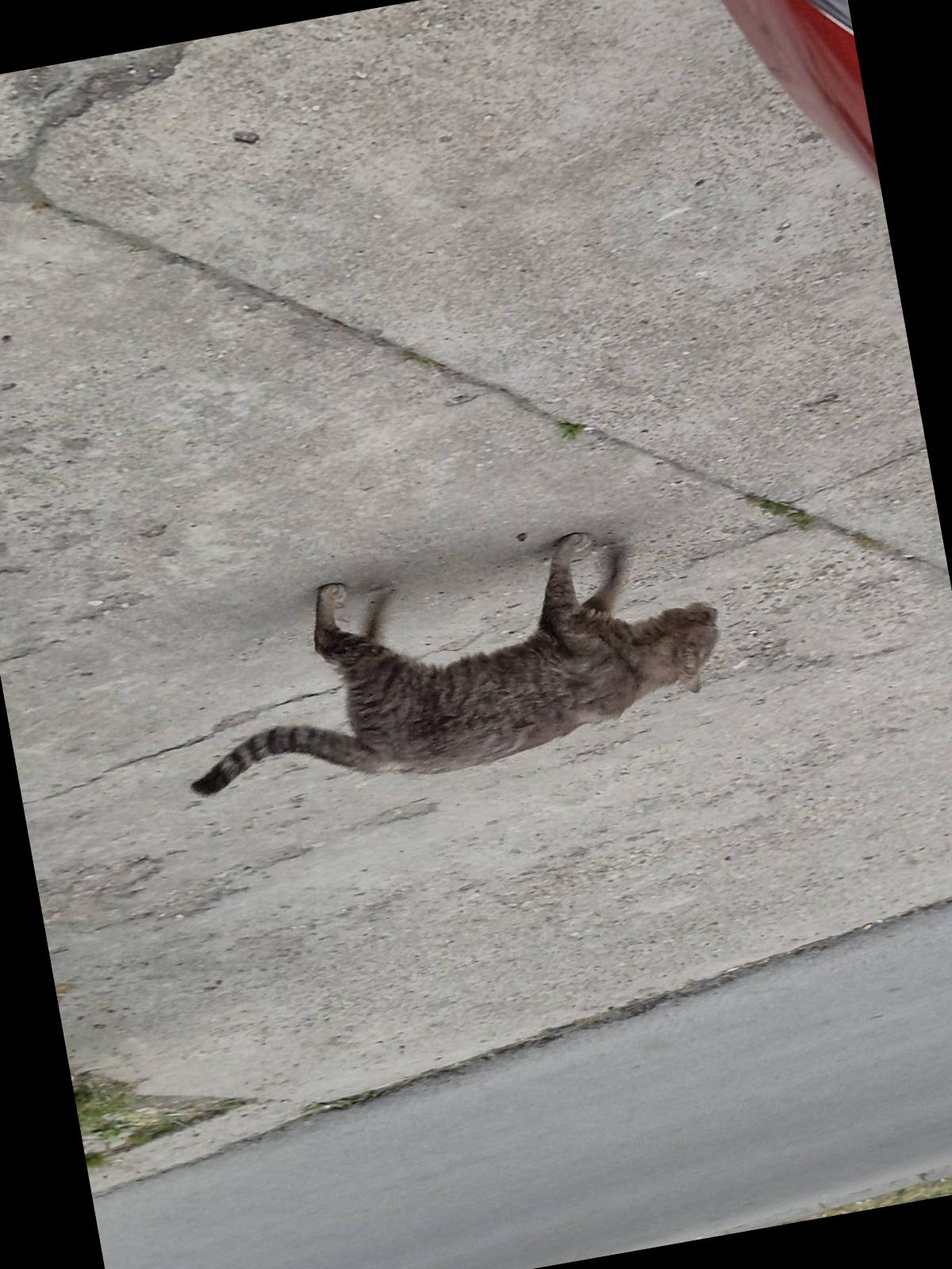macka: (160, 510, 741, 817)
